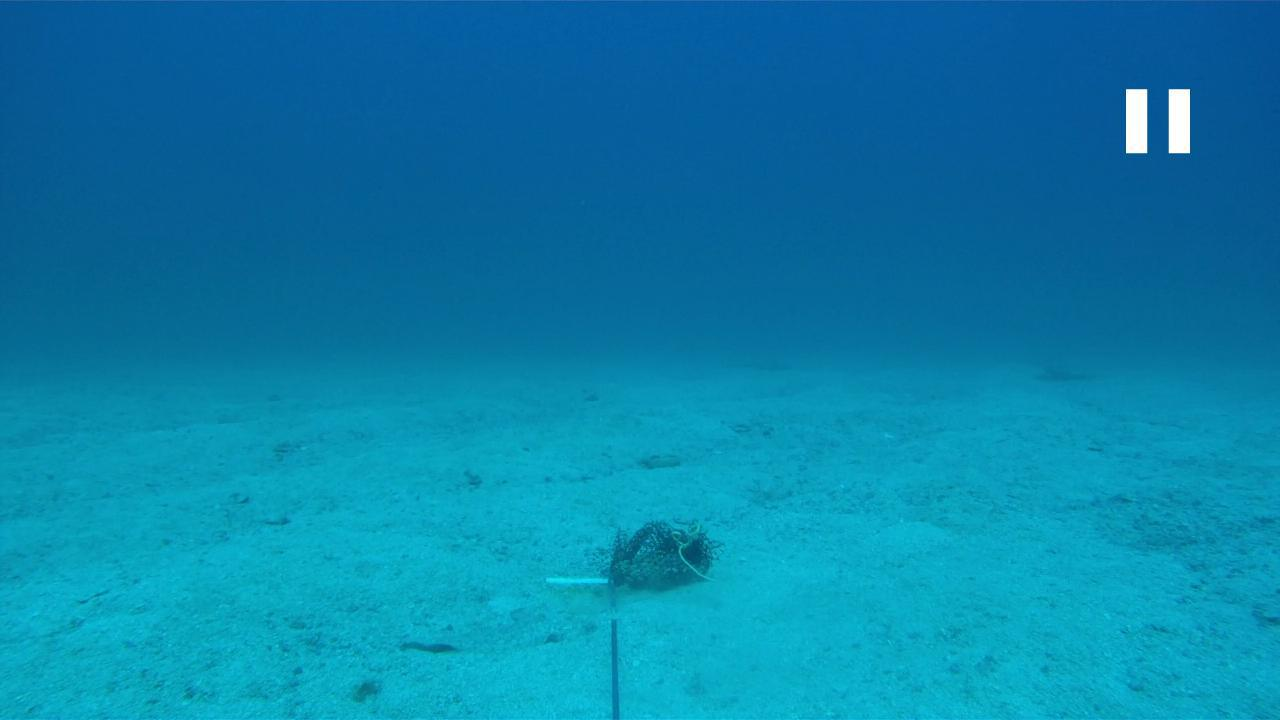bothus: (396, 598, 556, 654)
